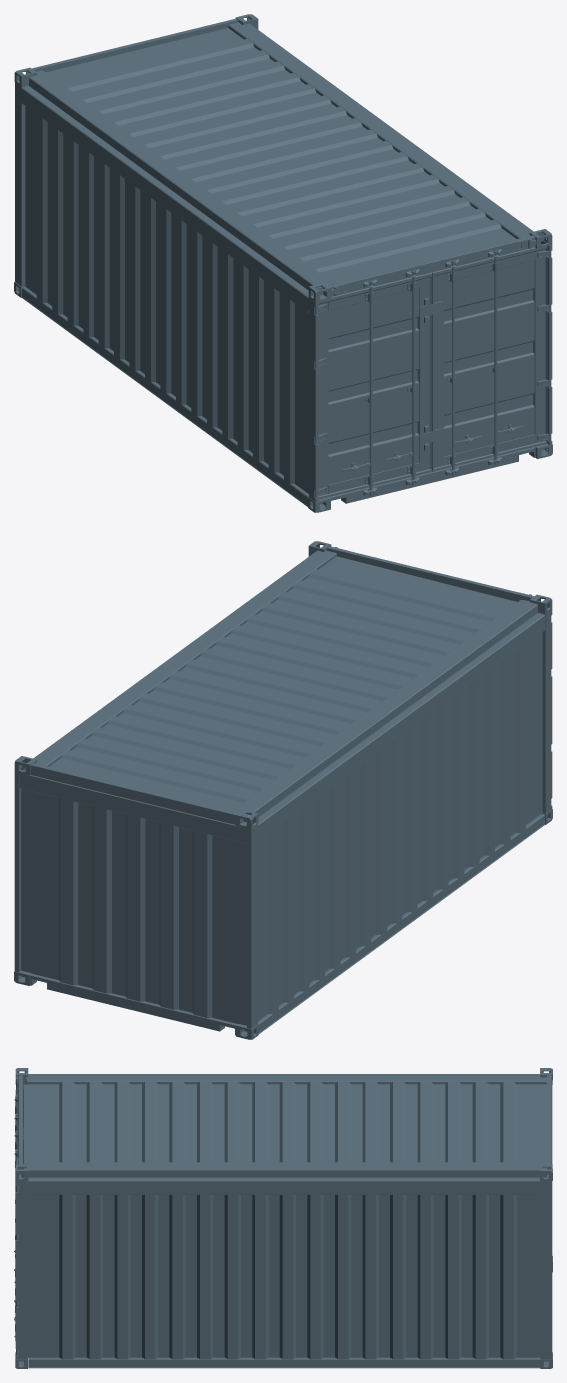
File: container.glb
3 renders of one model, top to bottom at view 1: azimuth 30°, elevation 25°; view 2: azimuth 150°, elevation 25°; view 3: azimuth 270°, elevation 25°, orthographic. The views are drawn at different scales.
Parts seen in each view (by area): view 1: container; view 2: container; view 3: container.
Part boxes in pixels (<box>): container: <box>14,14,552,512</box>; container: <box>14,541,552,1039</box>; container: <box>14,1068,552,1368</box>.
Bounding box in the file's own units: 2.7 × 2.4 × 5.95.
